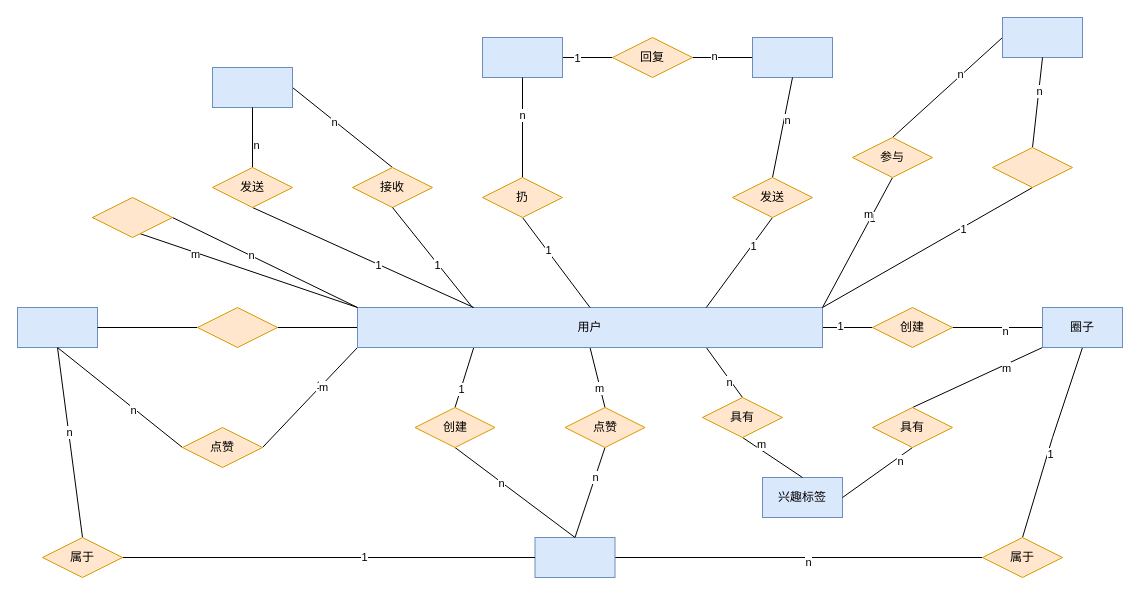
The diagram is 1140 pixels wide and 595 high, and some of its shapes have lost their labels. The shapes that lost their labels are listed below. From the top down, each one's centre as x and y in pixels, then its label:
At point 522,57: "漂流瓶".
At point 792,57: "漂流瓶回复".
At point 1042,37: "活动".
At point 252,87: "聊天消息".
At point 1032,167: "发布".
At point 132,217: "好友".
At point 57,327: "评论".
At point 237,327: "发表".
At point 574,557: "帖子".
